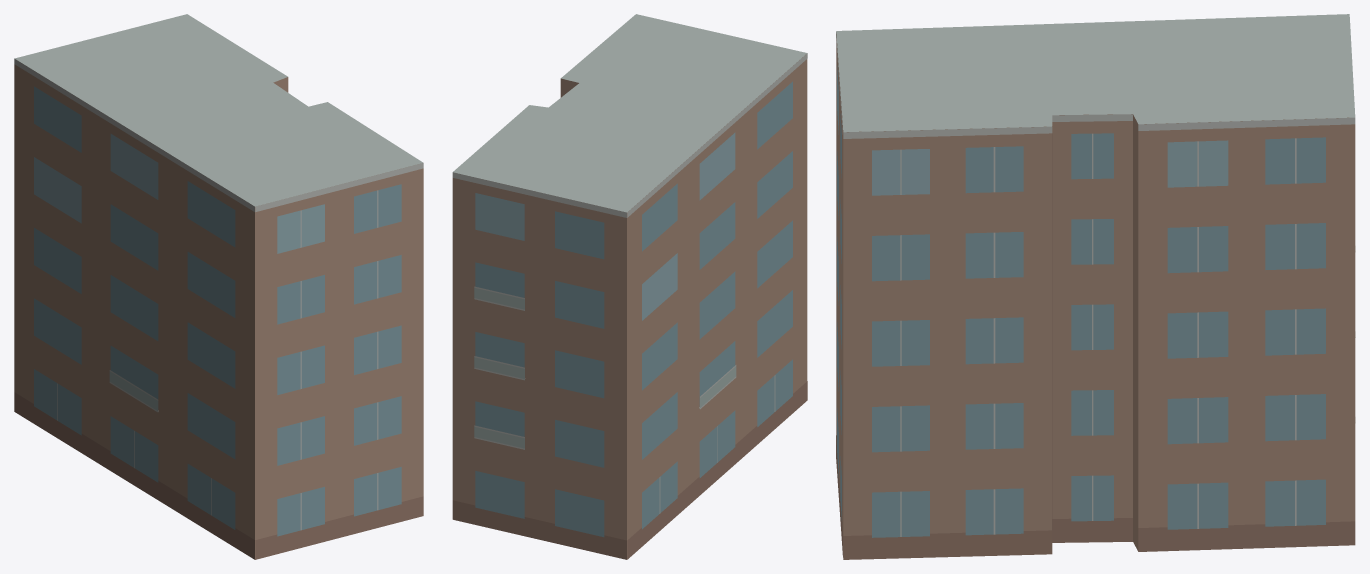
File: survey-upis-32587246.glb
The picture shows the model from 3 angles, left to right: view 1: azimuth 30°, elevation 25°; view 2: azimuth 150°, elevation 25°; view 3: azimuth 270°, elevation 25°; orthographic projection. The views are drawn at different scales.
Visible parts, largest first — view 1: survey-upis-32587246.tmp; view 2: survey-upis-32587246.tmp; view 3: survey-upis-32587246.tmp.
Boxes of the visible parts, bbox=[...] form: survey-upis-32587246.tmp: bbox=[14, 14, 423, 559]; survey-upis-32587246.tmp: bbox=[452, 14, 807, 559]; survey-upis-32587246.tmp: bbox=[836, 14, 1355, 559].
Bounding box in the file's own units: 9.05 × 15.25 × 16.8.
